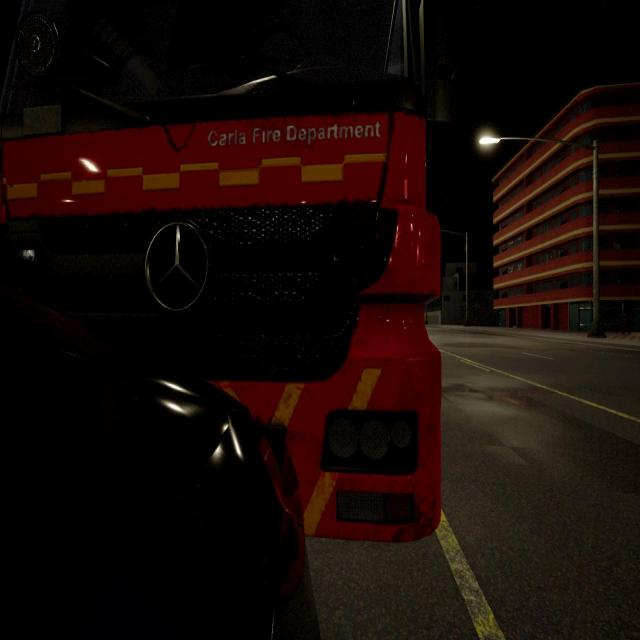Vehicle: (0, 0, 438, 539), (0, 345, 312, 639)
